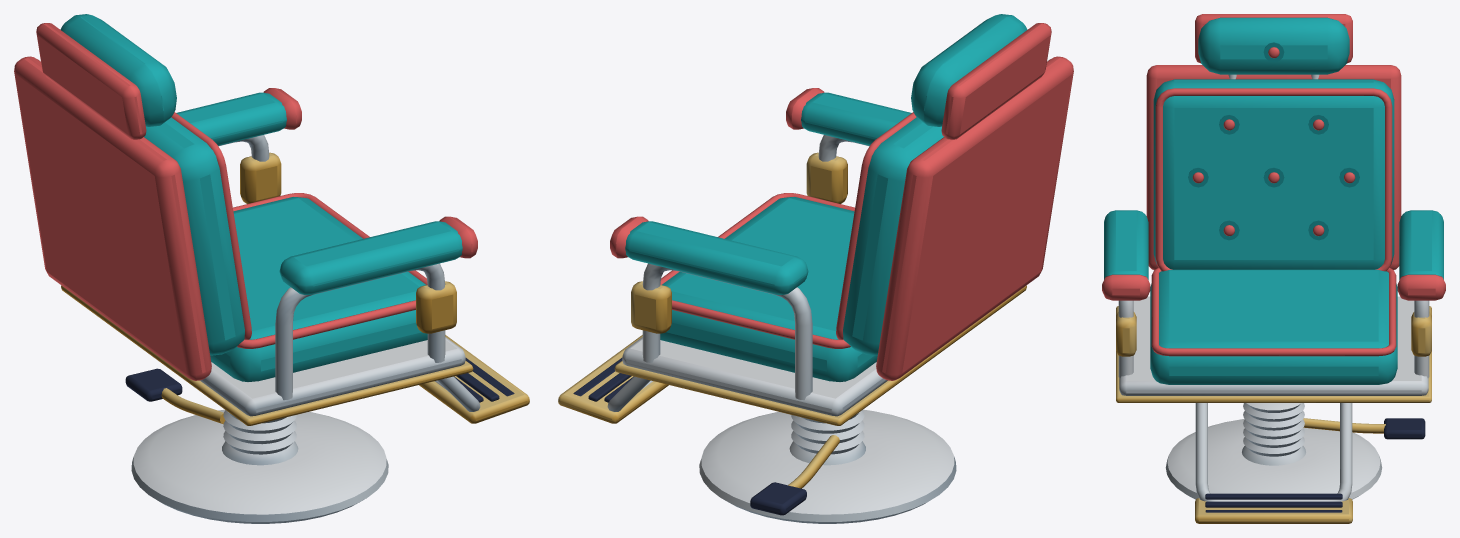
File: barber_chair.glb
3 views of the same model, side by side, from view 1: azimuth 30°, elevation 25°; view 2: azimuth 150°, elevation 25°; view 3: azimuth 270°, elevation 25° (orthographic). The views are drawn at different scales.
Visible parts, largest first — view 1: Seat, Base; view 2: Seat, Base; view 3: Seat, Base.
Part boxes in pixels (x1,y1,x2,y2): Seat: (14,14,529,425); Base: (125,368,388,523); Seat: (558,14,1073,425); Base: (699,409,956,523); Seat: (1102,14,1445,523); Base: (1165,403,1425,499).
Bounding box in the file's own units: 1.14 × 1.26 × 1.
